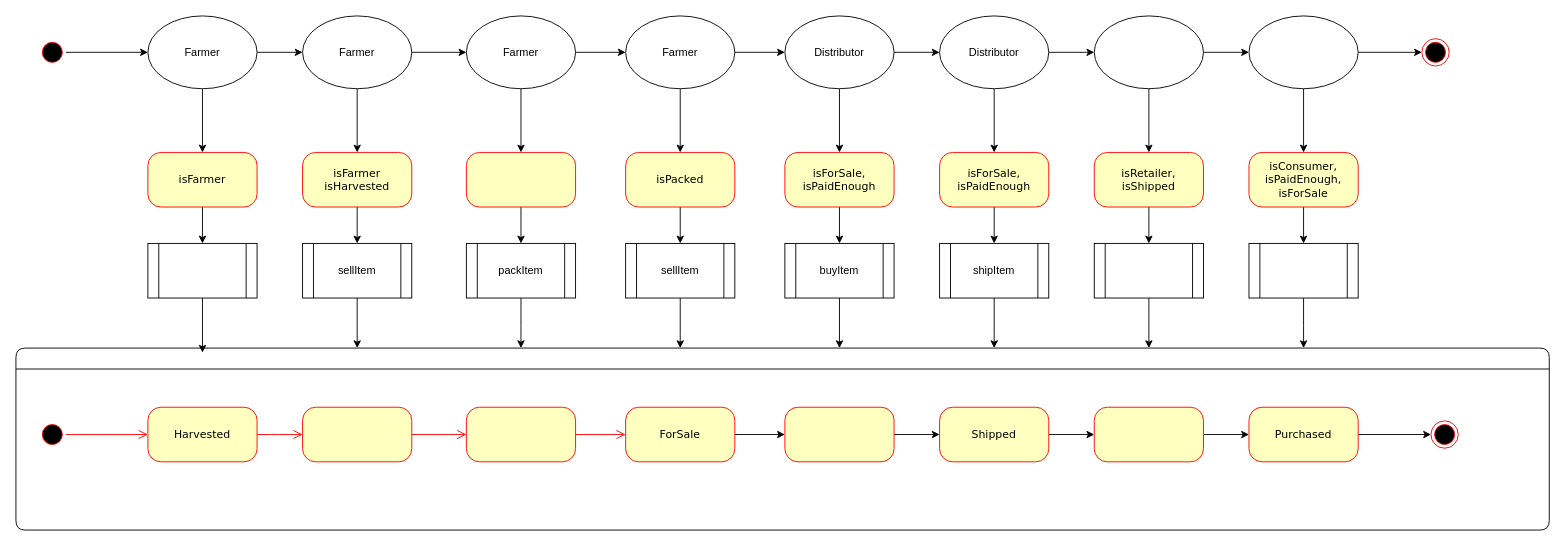
This 1565x546 diagram has some shape labels left out. The shapes that lost their labels are listed below. From the top down, each one's box as (x1, y1, x2, y2) in pixels, then its label:
(1093, 15, 1203, 89): Retailer
(1248, 15, 1358, 89): Consumer
(465, 152, 576, 207): isProcessed, isFarmer
(147, 243, 257, 298): harvestItem
(1093, 243, 1203, 298): receiveItem
(1248, 243, 1358, 298): purchaseItem
(302, 406, 412, 462): Processed
(465, 406, 576, 462): Packed
(15, 347, 1549, 530): Coffee
(784, 406, 894, 462): Sold
(1093, 406, 1203, 462): Received
